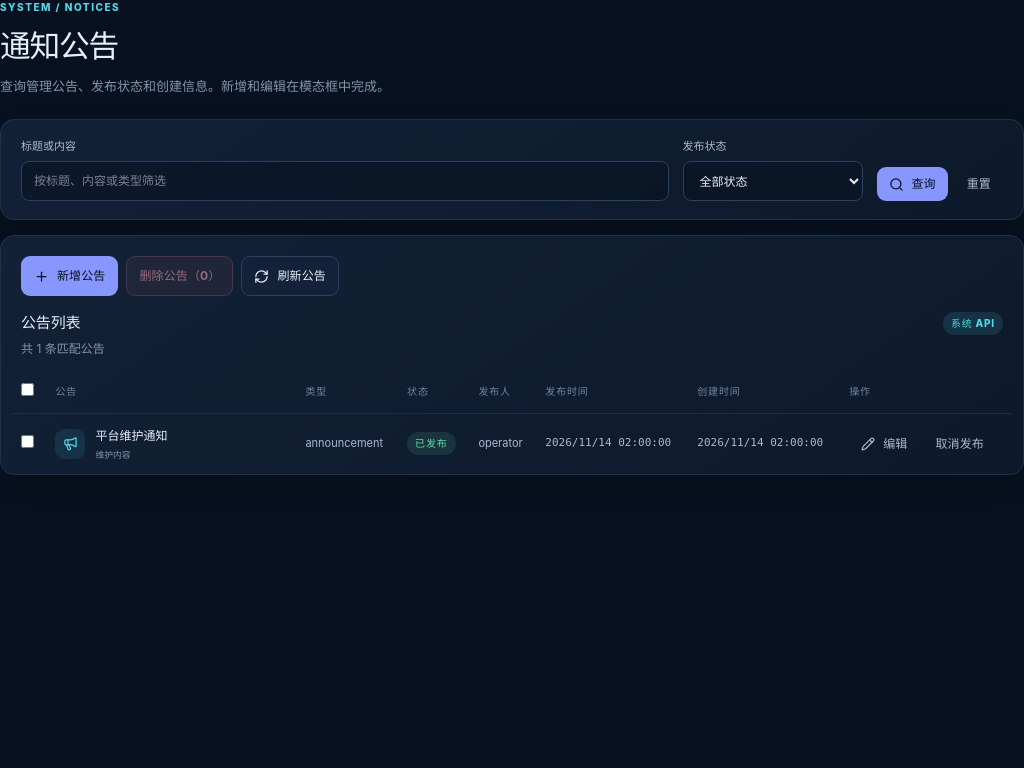
NoticesPage › 公告编号无效时显示专用错误码和诊断含义
The image size is (1024, 768).
expect the text "平台维护通知" is shown: met, box [95,427,167,445]
Click the checkbox named "选择公告 平台维护通知": (28, 441) [21,435,34,448]
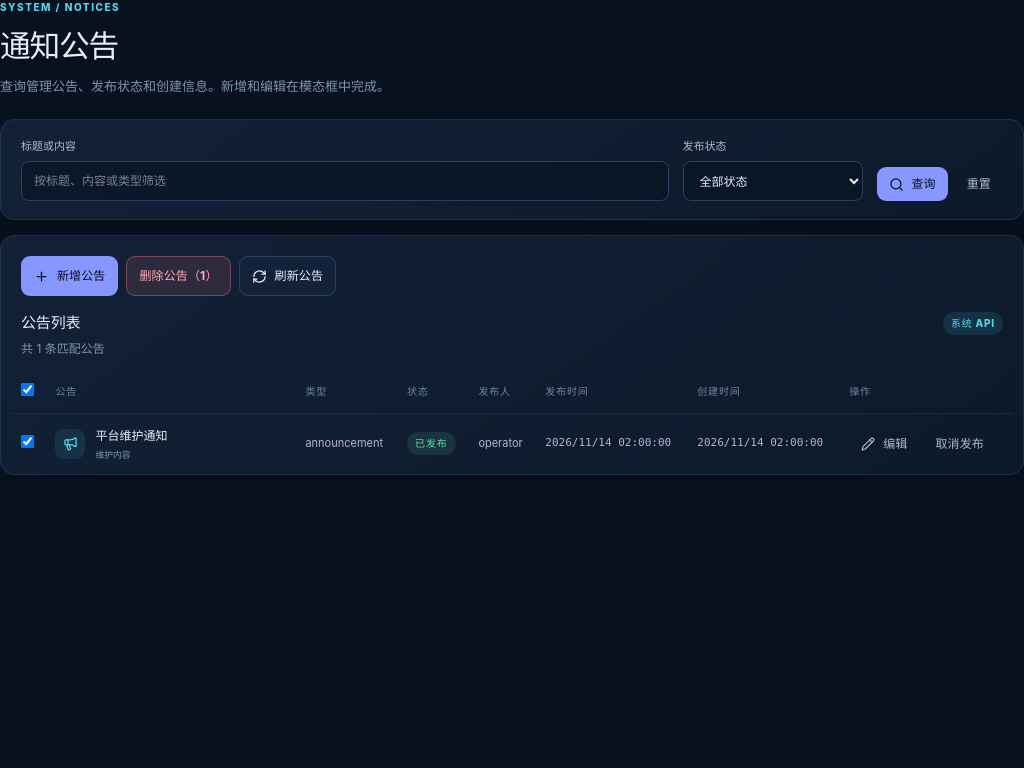
Click the button "删除公告（1）": (178, 276) [126,256,230,296]
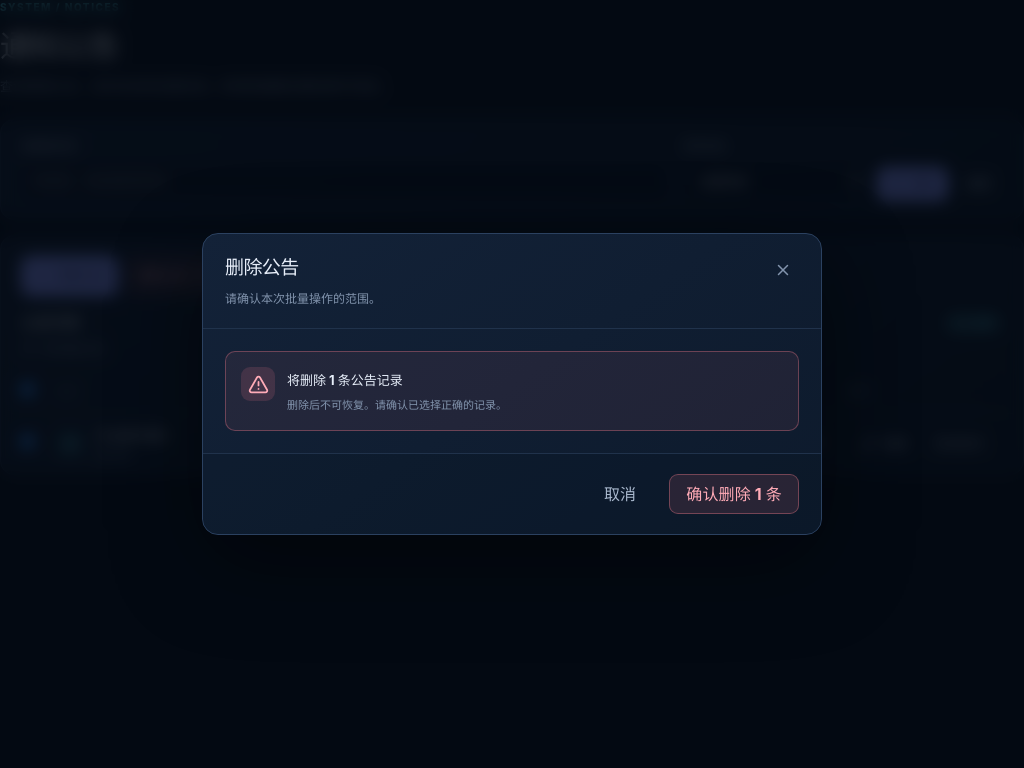
Click the button "确认删除 1 条": (734, 494) [669,474,799,514]
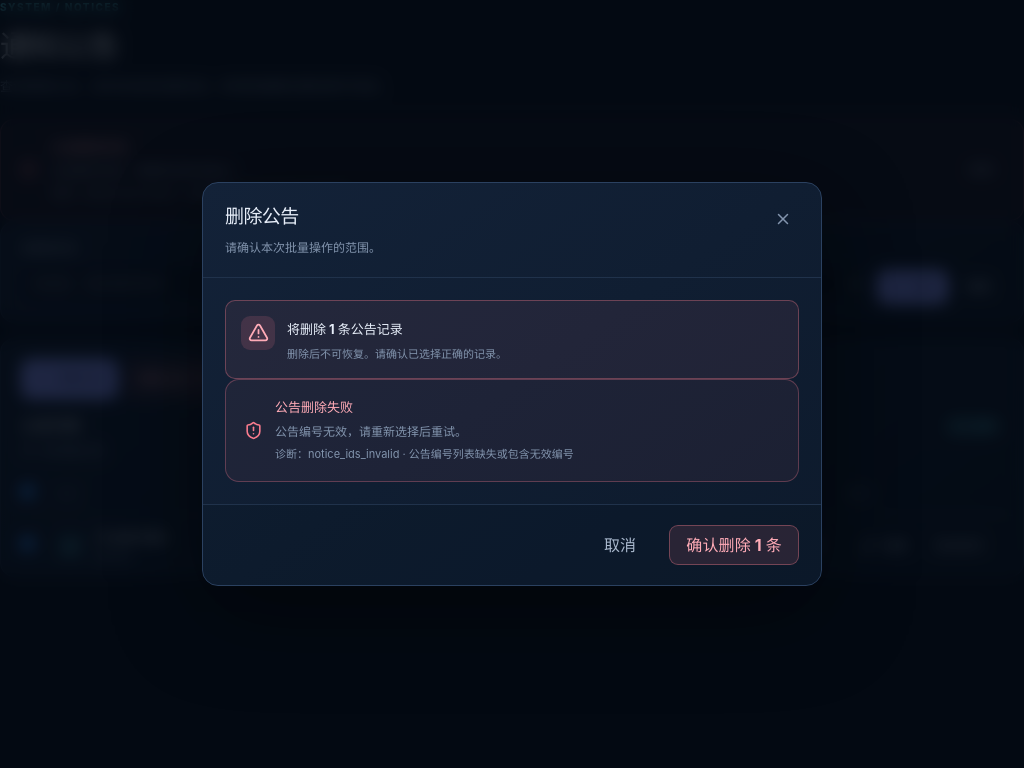
expect the message "公告删除失败 公告编号无效，请重新选择后重试。 诊断：notice_ids_invalid · 公告编号列表缺失或包含无效编号" is shown: met, box [225,379,799,482]
